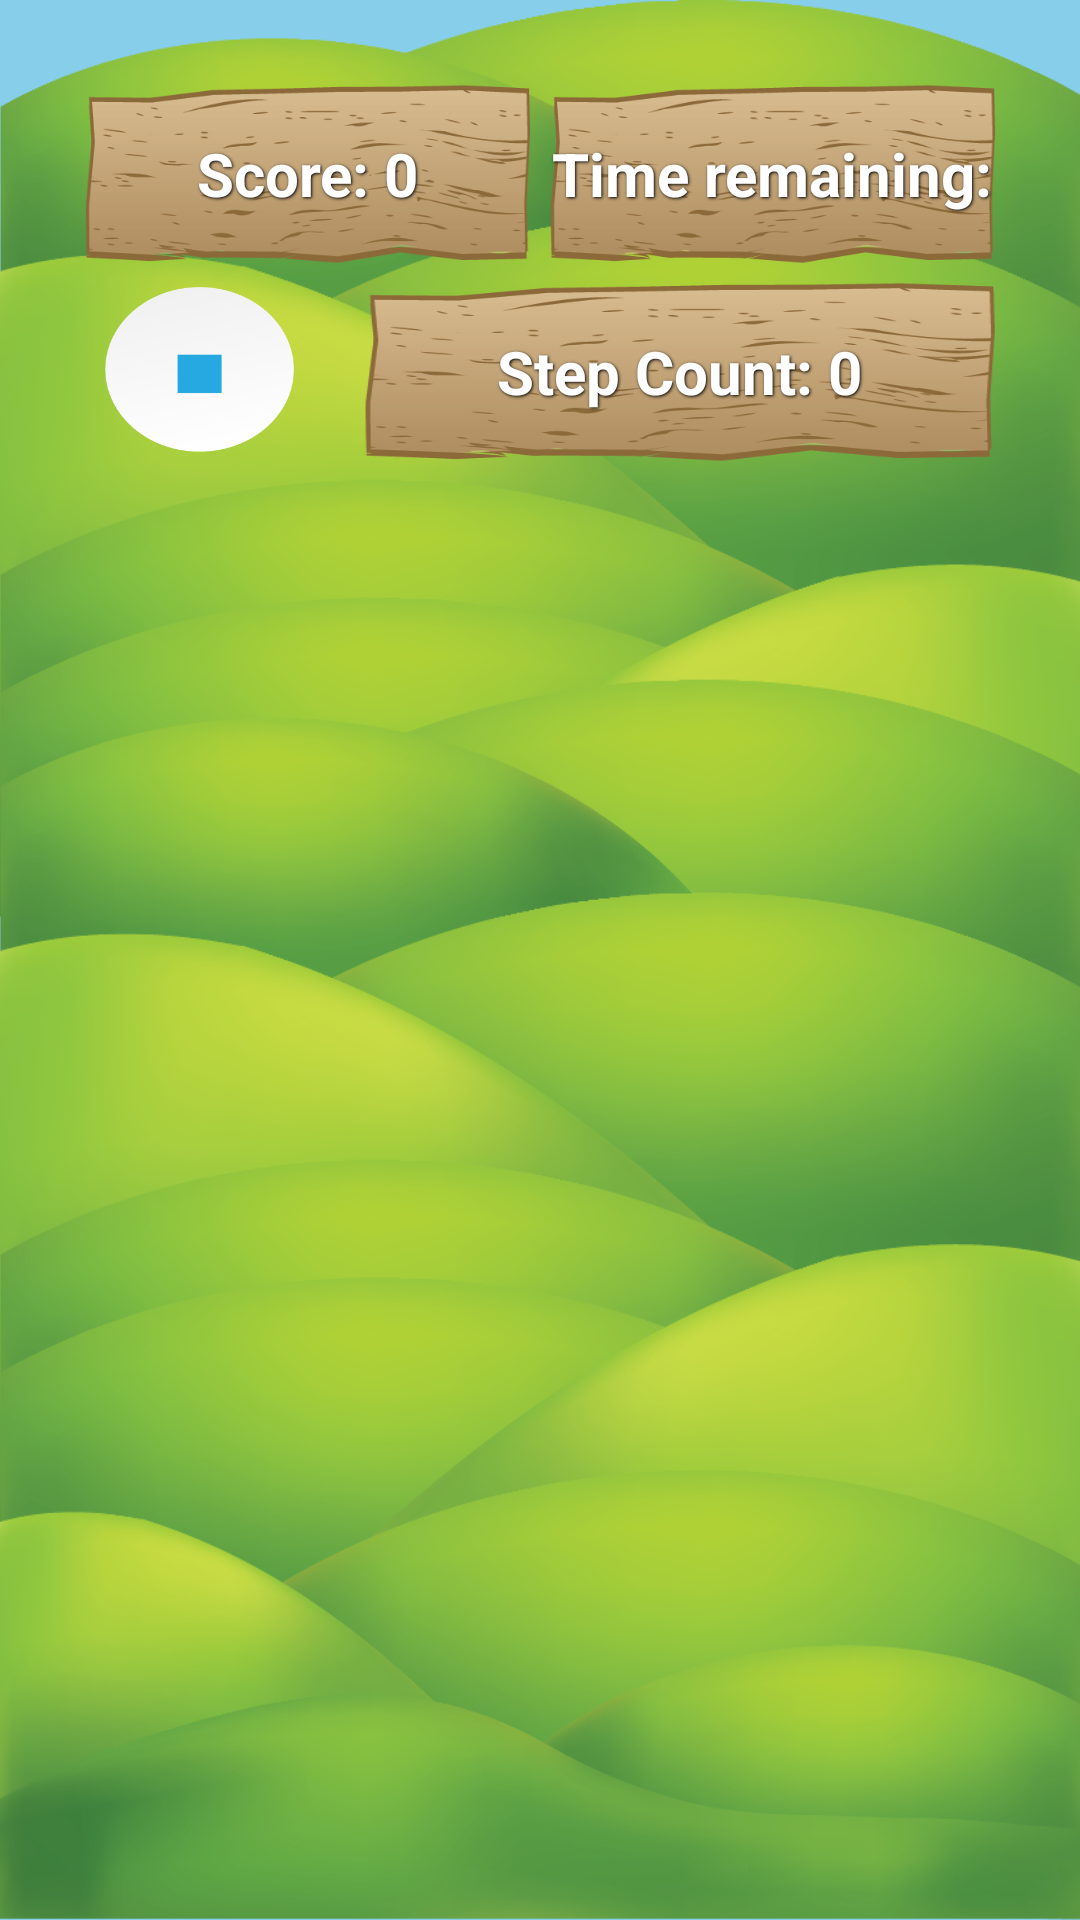

Icons on this 1080*1920 Android screen, each with its box as (x1, y1, x2, y2):
control stop: (105, 287, 294, 452)
